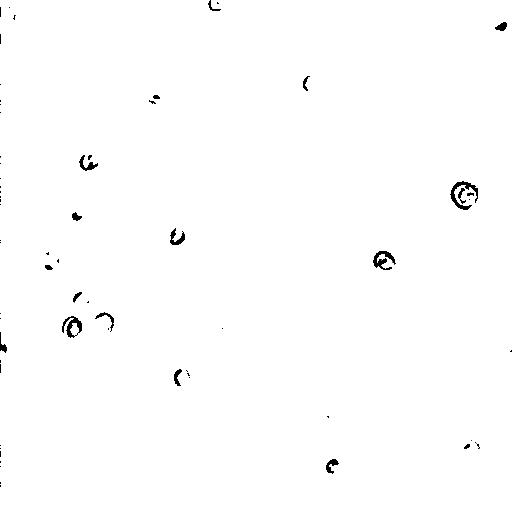micro-algae: (217, 218, 261, 262), (482, 5, 511, 44), (35, 242, 68, 275), (61, 201, 99, 229), (449, 179, 481, 210), (1, 0, 28, 31), (303, 1, 358, 16), (89, 311, 116, 336), (371, 248, 397, 270), (457, 439, 481, 461), (59, 315, 82, 337), (301, 71, 322, 94), (79, 151, 101, 171), (167, 223, 187, 245), (0, 334, 13, 367), (72, 287, 92, 307), (173, 366, 189, 387), (325, 456, 341, 475), (207, 0, 229, 11), (505, 335, 512, 357)
